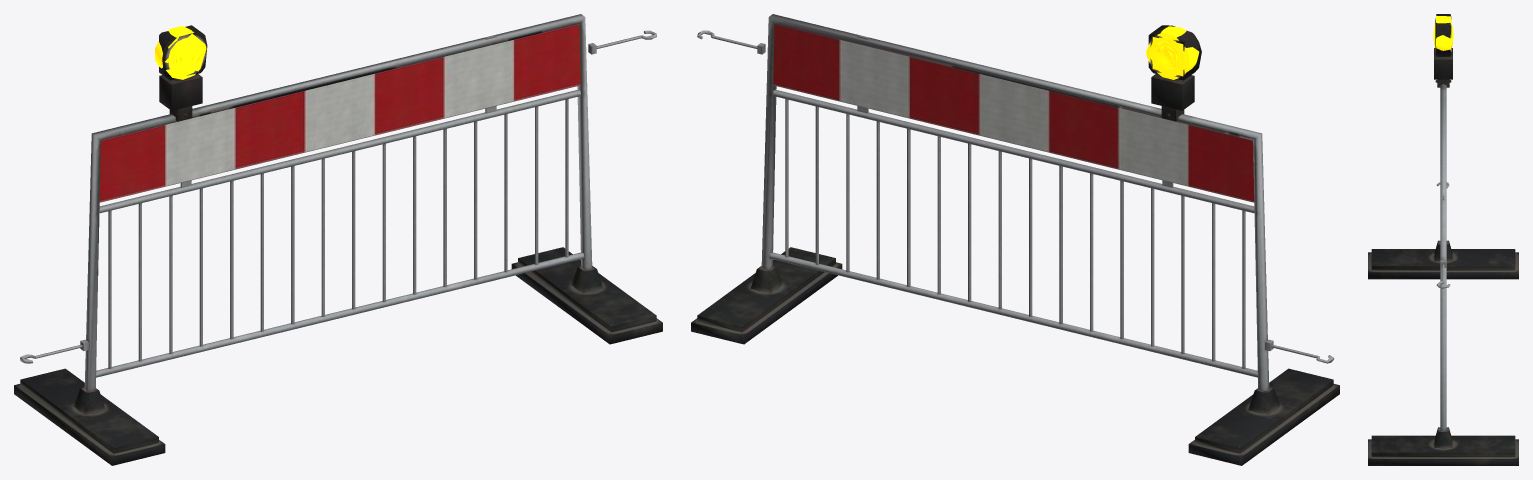
Rendered from construction-barrier.glb.
3 renders of one model, left to right at view 1: azimuth 30°, elevation 25°; view 2: azimuth 150°, elevation 25°; view 3: azimuth 270°, elevation 25°, orthographic. The views are drawn at different scales.
Parts seen in each view (by area): view 1: construction-barrier_body, construction-barrier_lamp_lens; view 2: construction-barrier_body, construction-barrier_lamp_lens; view 3: construction-barrier_body, construction-barrier_lamp_lens.
Boxes of the visible parts, bbox=[...] form: construction-barrier_body: bbox=[14, 14, 662, 465]; construction-barrier_lamp_lens: bbox=[155, 26, 207, 79]; construction-barrier_body: bbox=[691, 14, 1339, 465]; construction-barrier_lamp_lens: bbox=[1146, 26, 1199, 79]; construction-barrier_body: bbox=[1368, 14, 1518, 465]; construction-barrier_lamp_lens: bbox=[1433, 16, 1453, 51].
Size of the model in its own units: 2.5 by 1.4 by 0.669.
Materials: 2 (1 with a texture image).
